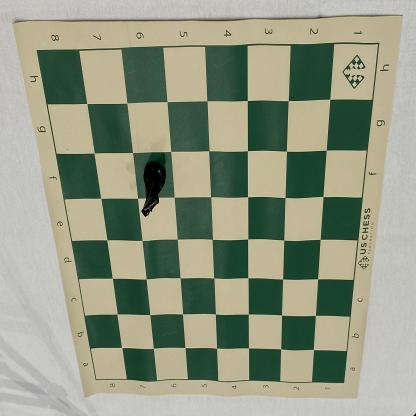black-knight: (142, 160, 166, 218)
